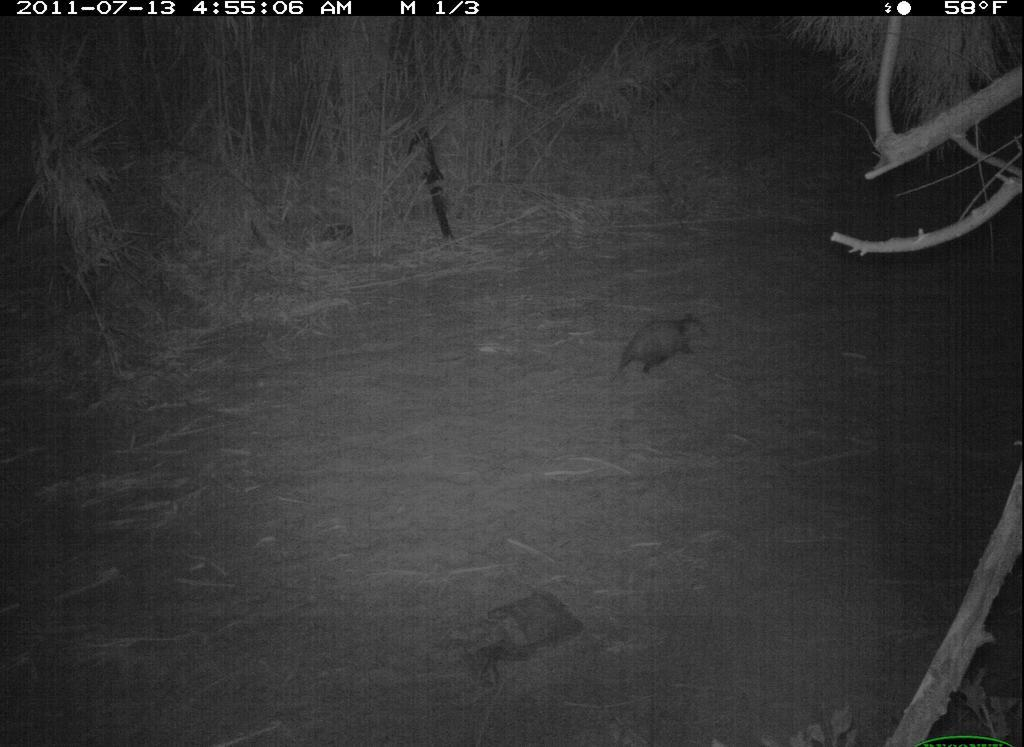opossum: (612, 301, 729, 392)
